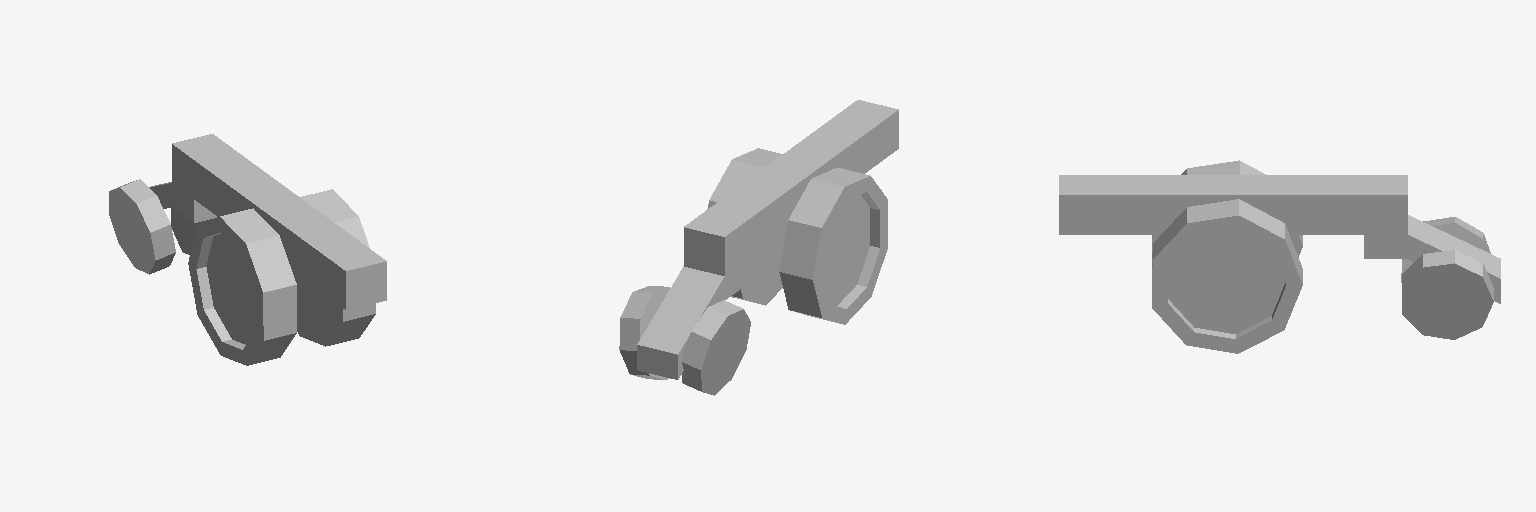
Rendered from planterrowunit_orange.obj.
3 views of the same model, side by side, from view 1: azimuth 30°, elevation 25°; view 2: azimuth 150°, elevation 25°; view 3: azimuth 270°, elevation 25° (orthographic).
Parts seen in each view (by area): view 1: planter_Cube.006; view 2: planter_Cube.006; view 3: planter_Cube.006.
Part boxes in pixels (x1,y1,x2,y2): planter_Cube.006: (109,134,386,365); planter_Cube.006: (619,100,898,395); planter_Cube.006: (1059,160,1500,353).
Bounding box in the file's own units: 0.5393 × 0.6442 × 1.83.